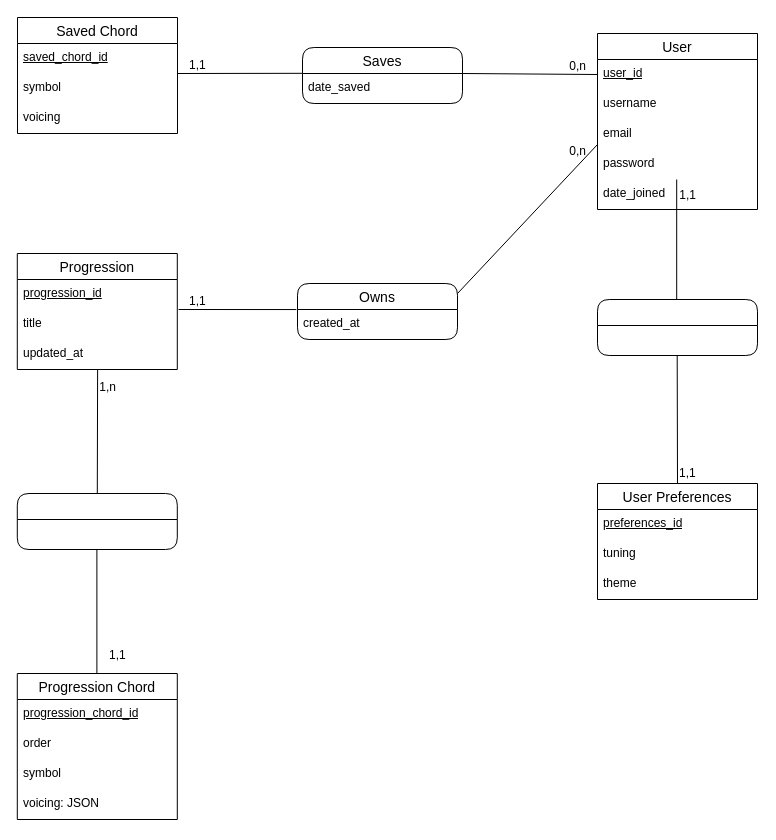
Image size: 776x840. Some labels were removed from this diagram. The centre of each missing label's shape, as x and y in pixels:
"Contains" goes at point (96, 521).
"Has Preferences" goes at point (677, 327).
